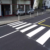zebra: (8, 21, 49, 45)
